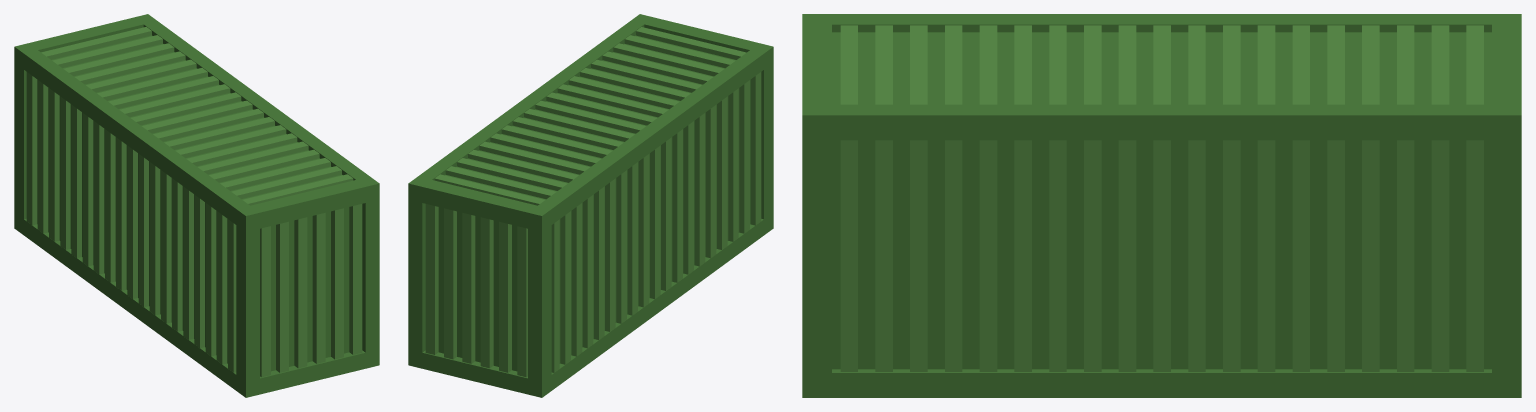
The model's file is Cargo_ship_01_Box4.fbx.
3 views of the same model, side by side, from view 1: azimuth 30°, elevation 25°; view 2: azimuth 150°, elevation 25°; view 3: azimuth 270°, elevation 25° (orthographic). The views are drawn at different scales.
Visible parts, largest first — view 1: Cargo_ship_01_Box4; view 2: Cargo_ship_01_Box4; view 3: Cargo_ship_01_Box4.
Boxes of the visible parts, x1,y1,x2,y2 form: Cargo_ship_01_Box4: [14, 14, 379, 397]; Cargo_ship_01_Box4: [408, 14, 773, 397]; Cargo_ship_01_Box4: [802, 14, 1521, 397].
Size of the model in its own units: 200 by 260 by 600.
